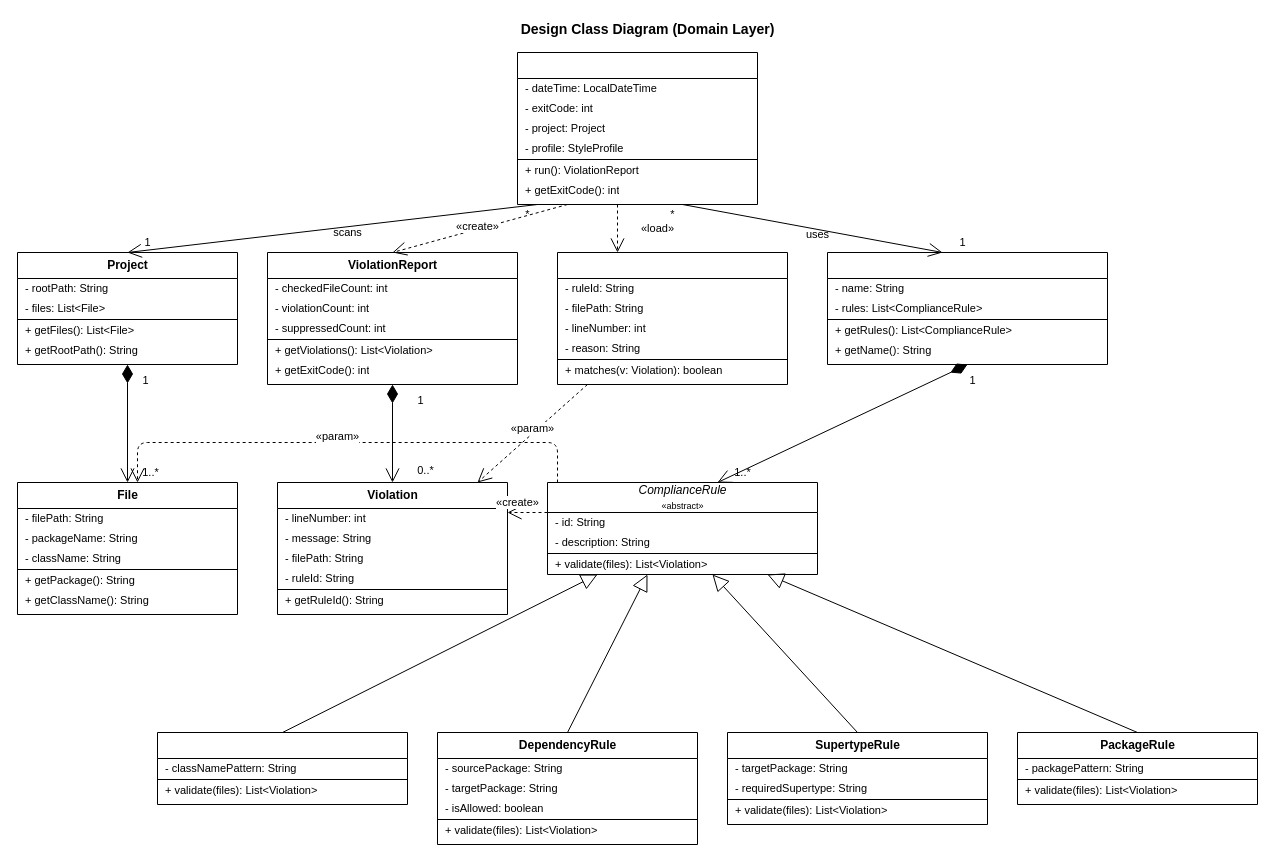
Some shapes in this 1275 by 862 pixel diagram are drawn without their labels. The shapes that lost their labels are listed below. From the top down, each one's box as (x1, y1, x2, y2) in pixels, then its label:
(516, 52, 758, 204): ComplianceCheck
(556, 252, 788, 384): Suppression
(826, 252, 1108, 364): StyleProfile
(156, 732, 408, 804): NamingRule
